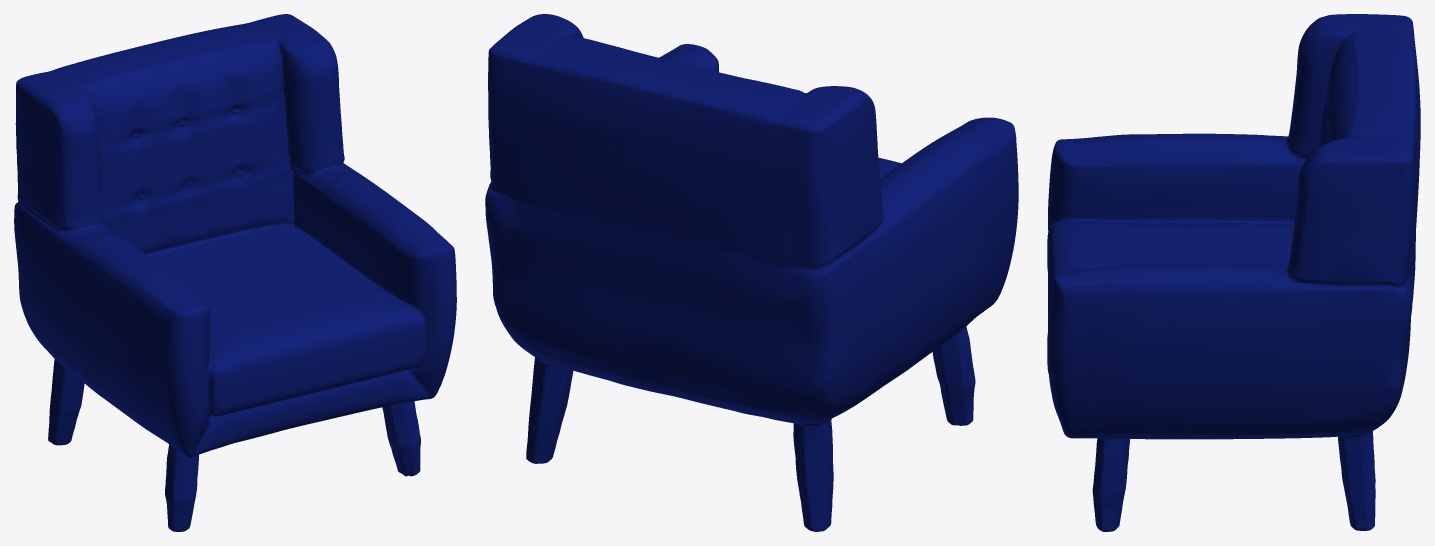
The picture shows the model from 3 angles, left to right: view 1: azimuth 30°, elevation 25°; view 2: azimuth 150°, elevation 25°; view 3: azimuth 270°, elevation 25°; orthographic projection. The views are drawn at different scales.
Visible parts, largest first — view 1: tmpqks6mufeply002; view 2: tmpqks6mufeply002; view 3: tmpqks6mufeply002.
Part boxes in pixels (box(x1,y1,x2,y2)): tmpqks6mufeply002: box(14, 14, 456, 531); tmpqks6mufeply002: box(485, 14, 1018, 531); tmpqks6mufeply002: box(1047, 14, 1420, 531).
Bounding box in the file's own units: 0.8737 × 1 × 0.8776.
